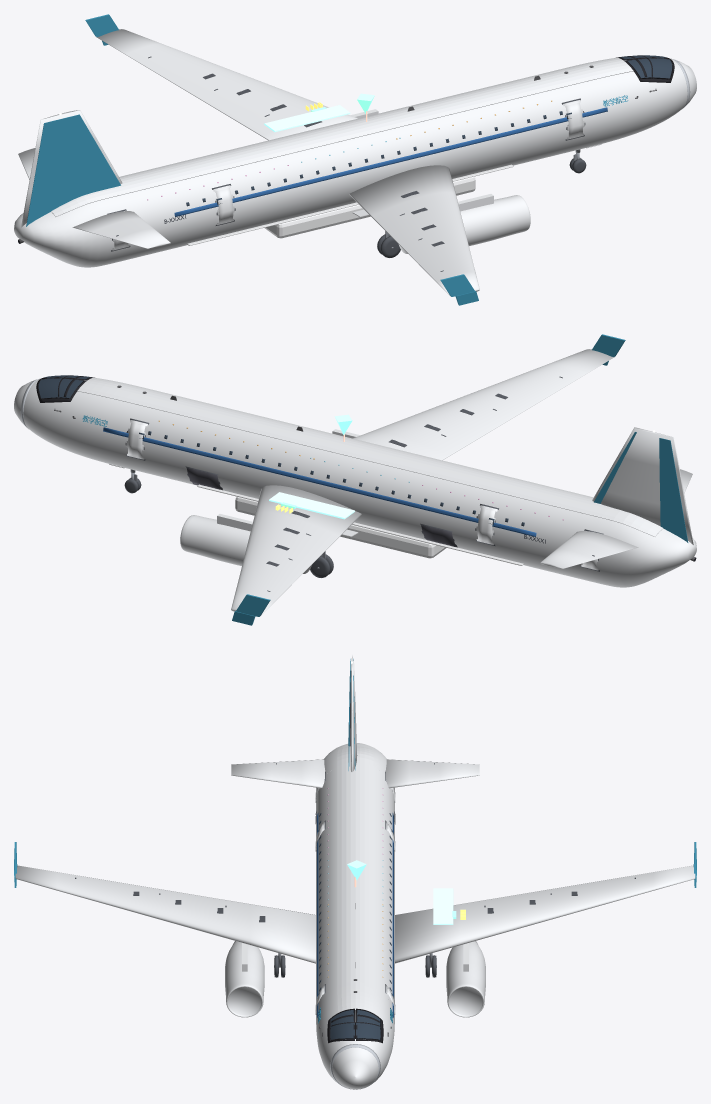
The model's file is teach_model_draco.glb.
3 renders of one model, top to bottom at view 1: azimuth 30°, elevation 25°; view 2: azimuth 150°, elevation 25°; view 3: azimuth 270°, elevation 25°, orthographic. The views are drawn at different scales.
Visible parts, largest first — view 1: Plane_Fuselage, Shell_Upper, Plane_Wing_L, Plane_Wing_R, LogoTail_L, Plane_Nose, Plane_TailCone, E_L, Stripe_-1, Plane_HS_L, BellyFairing, Plane_VStab (+6 smaller); view 2: Plane_Fuselage, Shell_Upper, Plane_Wing_L, Plane_Wing_R, Plane_Nose, Plane_VStab, Plane_TailCone, E_R, LogoTail_R, Stripe_1, Plane_HS_R, BellyFairing (+8 smaller); view 3: Plane_Wing_L, Shell_Upper, Plane_Wing_R, Plane_Fuselage, Plane_Nose, E_R, E_L, Plane_HS_L, Plane_HS_R, MACBar.
Part boxes in pixels (x1,y1,x2,y2): Plane_Fuselage: (109, 83, 590, 263); Shell_Upper: (51, 57, 633, 216); Plane_Wing_L: (349, 165, 479, 296); Plane_Wing_R: (96, 29, 357, 140); LogoTail_L: (26, 114, 120, 226); Plane_Nose: (579, 58, 696, 148); Plane_TailCone: (14, 198, 119, 267); E_L: (398, 195, 530, 253); Stripe_-1: (174, 107, 607, 216); Plane_HS_L: (72, 211, 170, 248); BellyFairing: (264, 176, 475, 238); Plane_VStab: (21, 110, 122, 227); Plane_Fuselage: (120, 403, 601, 583); Shell_Upper: (77, 377, 663, 536); Plane_Wing_L: (353, 349, 614, 460); Plane_Wing_R: (231, 485, 361, 616); Plane_Nose: (14, 378, 131, 468); Plane_VStab: (592, 427, 693, 544); Plane_TailCone: (591, 518, 696, 587); E_R: (180, 515, 312, 573); LogoTail_R: (594, 432, 688, 542); Stripe_1: (103, 427, 536, 536); Plane_HS_R: (540, 531, 638, 568); BellyFairing: (235, 496, 446, 558); Plane_Wing_L: (15, 865, 315, 963); Shell_Upper: (337, 746, 373, 1039); Plane_Wing_R: (395, 865, 695, 963); Plane_Fuselage: (316, 767, 394, 1017); Plane_Nose: (316, 987, 394, 1089); E_R: (446, 941, 485, 1017); E_L: (225, 941, 264, 1017); Plane_HS_L: (231, 759, 325, 788); Plane_HS_R: (385, 759, 479, 788); MACBar: (433, 888, 453, 924).
Size of the model in its own units: 37.65 by 9.91 by 34.26.
